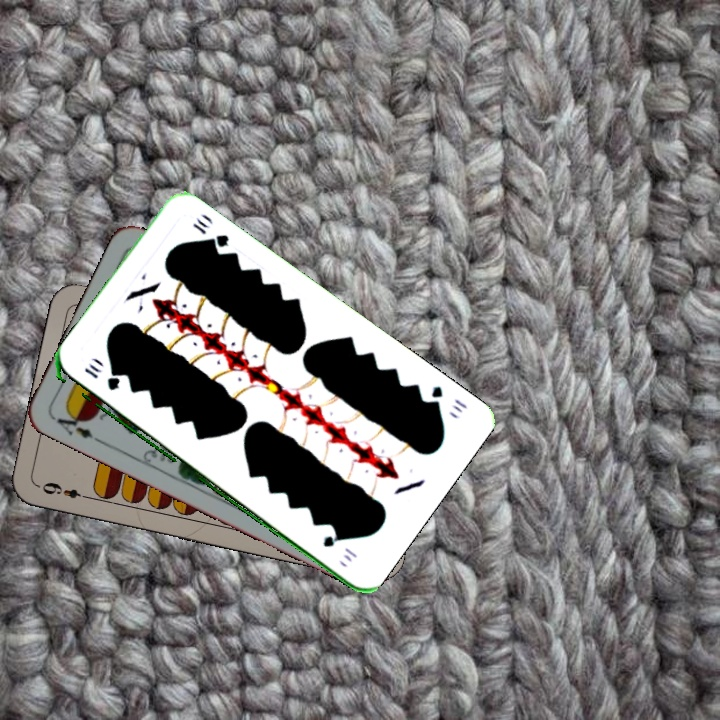E9: (38, 478, 94, 502)
EA: (50, 406, 105, 446)
G10: (422, 382, 470, 416), (80, 360, 122, 394)
